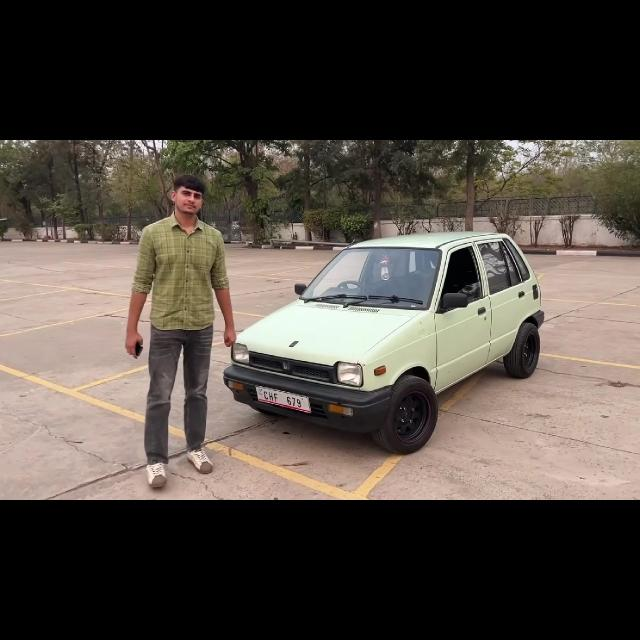vehicles: (223, 234, 545, 450)
